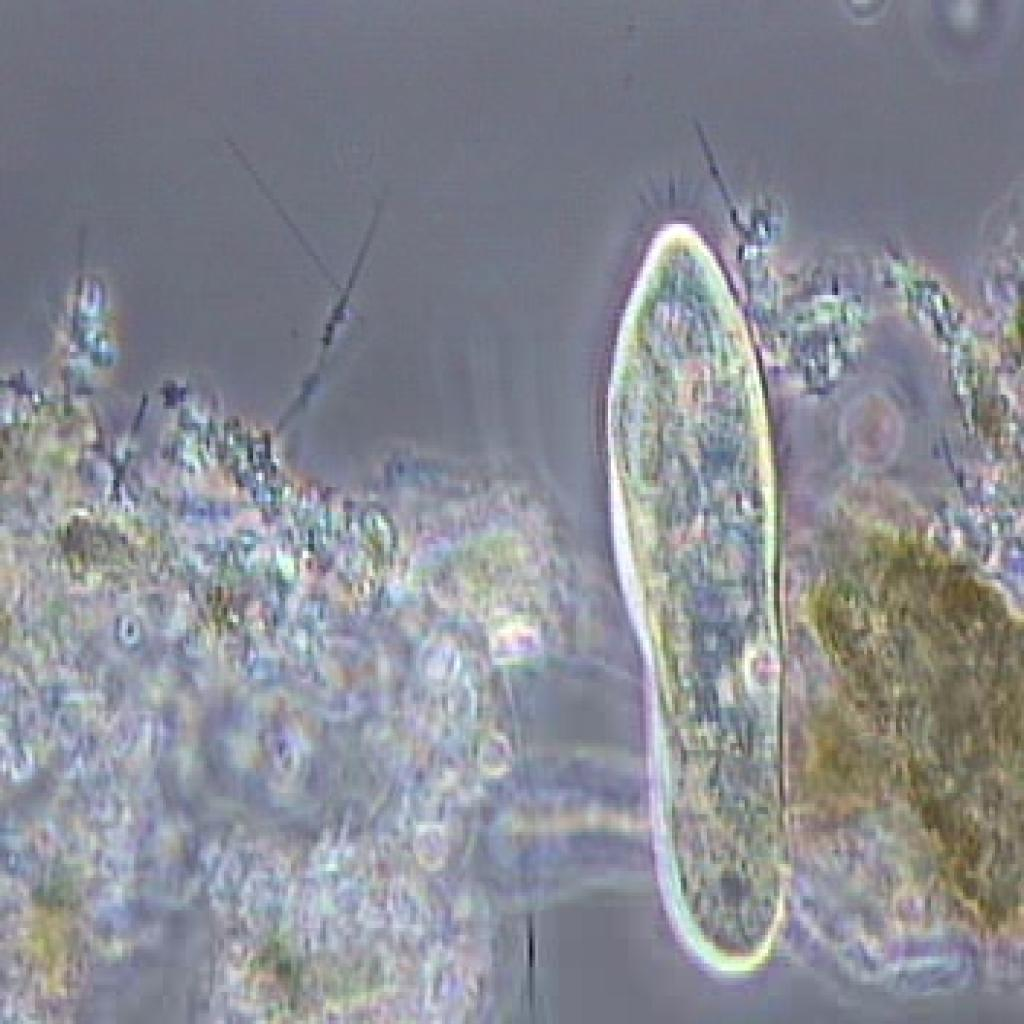Paramecium: (576, 162, 817, 976)
